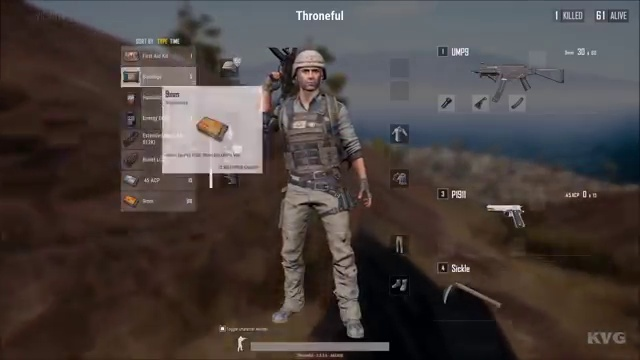Player: (268, 47, 379, 335)
